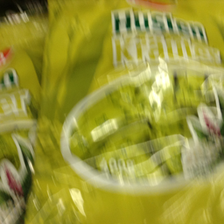candy: (49, 4, 224, 221)
